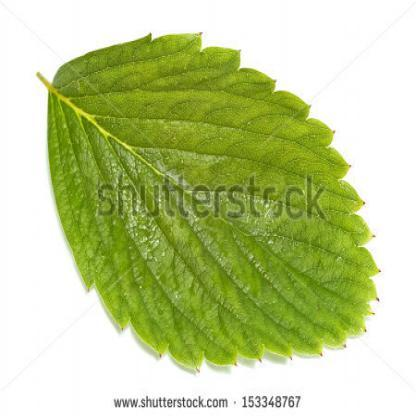Strawberry leaf: (35, 24, 383, 380)
